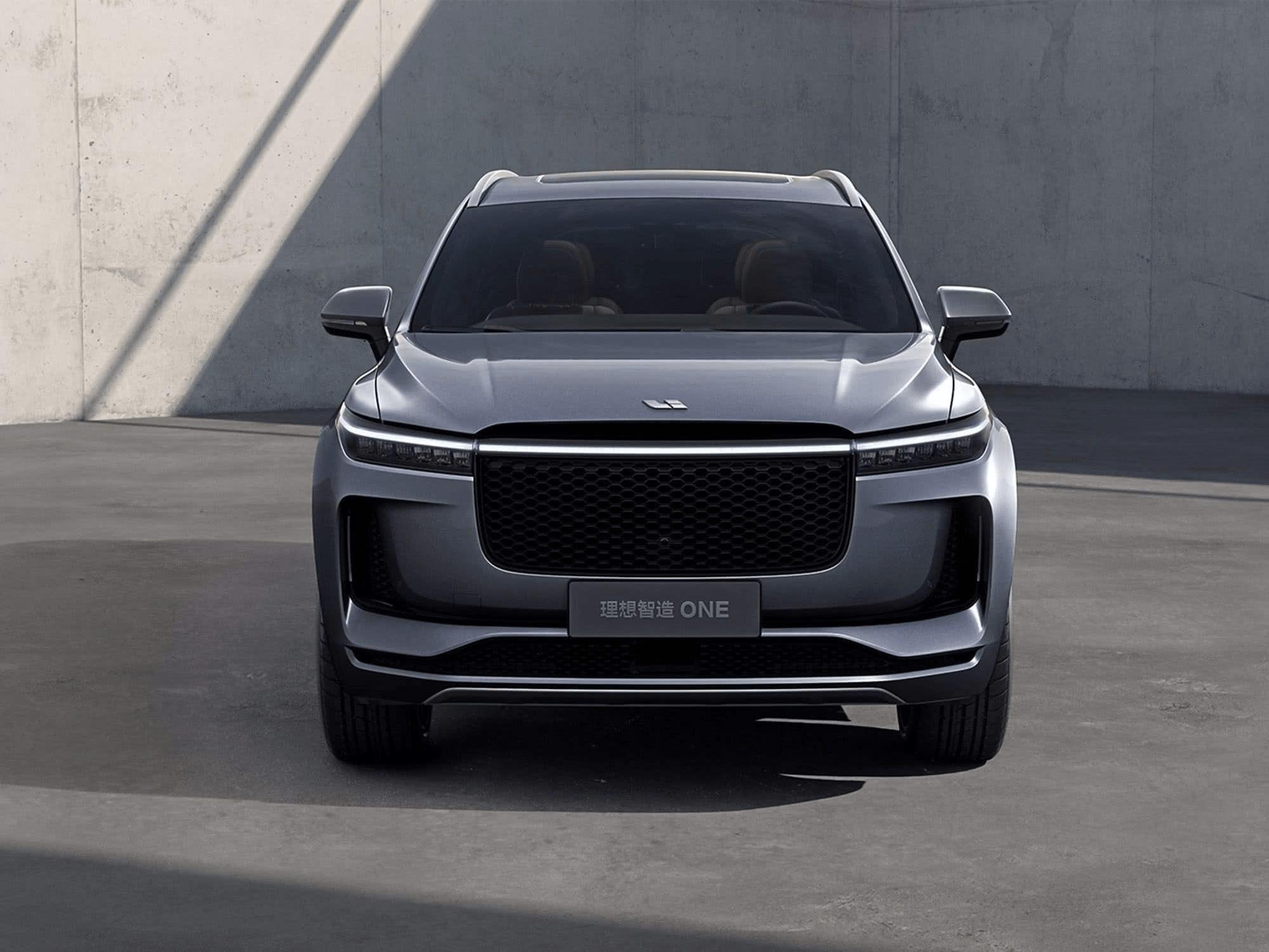Li Auto: (642, 399, 688, 412)
